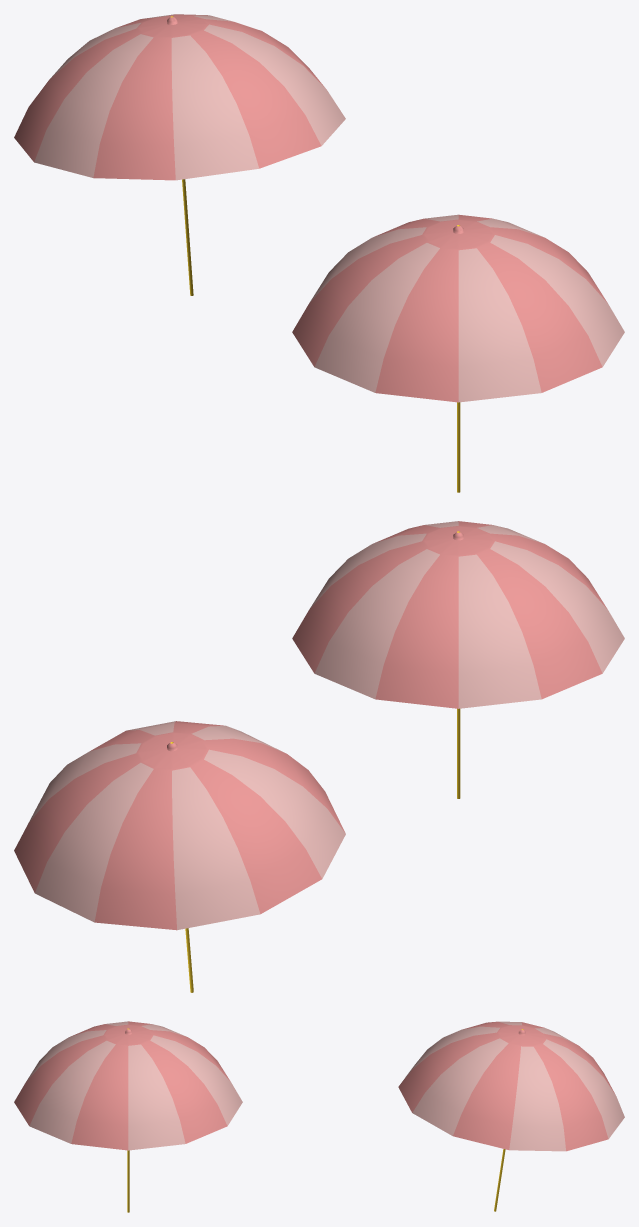
The model's file is payung pantai.fbx.
3 views of the same model, one above another, from view 1: azimuth 30°, elevation 25°; view 2: azimuth 150°, elevation 25°; view 3: azimuth 270°, elevation 25° (orthographic). The views are drawn at different scales.
Parts seen in each view (by area): view 1: Sphere, Sphere.001; view 2: Sphere.001, Sphere; view 3: Sphere, Sphere.001.
Boxes of the visible parts, x1,y1,x2,y2 form: Sphere: [292, 214, 624, 492]; Sphere.001: [14, 14, 345, 295]; Sphere.001: [14, 721, 345, 992]; Sphere: [292, 521, 624, 798]; Sphere: [14, 1021, 242, 1212]; Sphere.001: [398, 1021, 624, 1211].
Size of the model in its own units: 390 by 344 by 1040.
